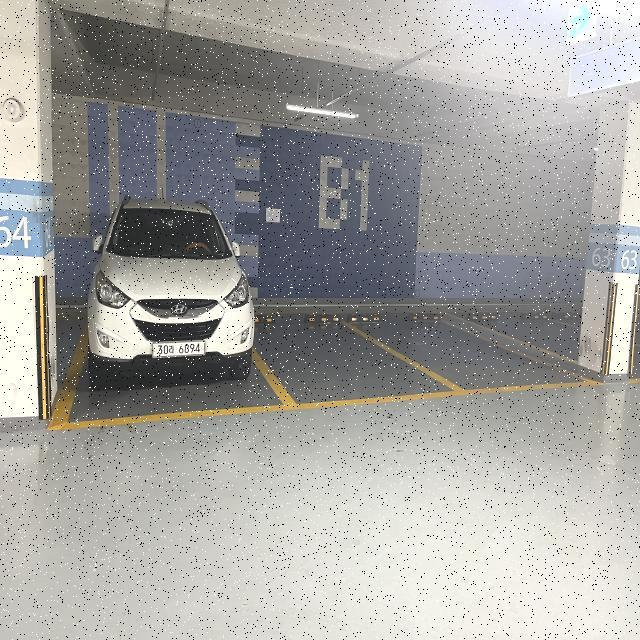empty: (264, 314, 405, 418), (398, 302, 508, 406)
occupied: (61, 180, 281, 422)
